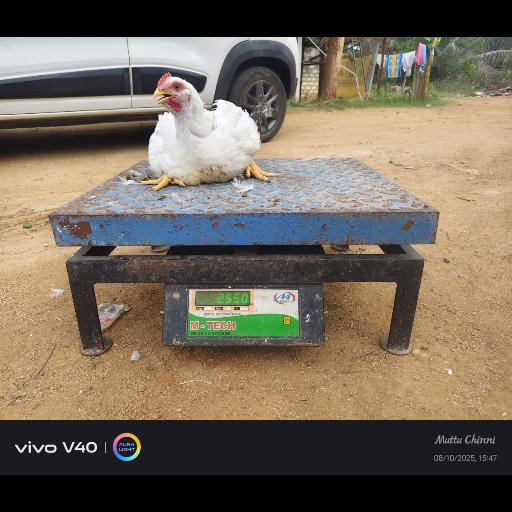chick: (141, 73, 278, 191)
